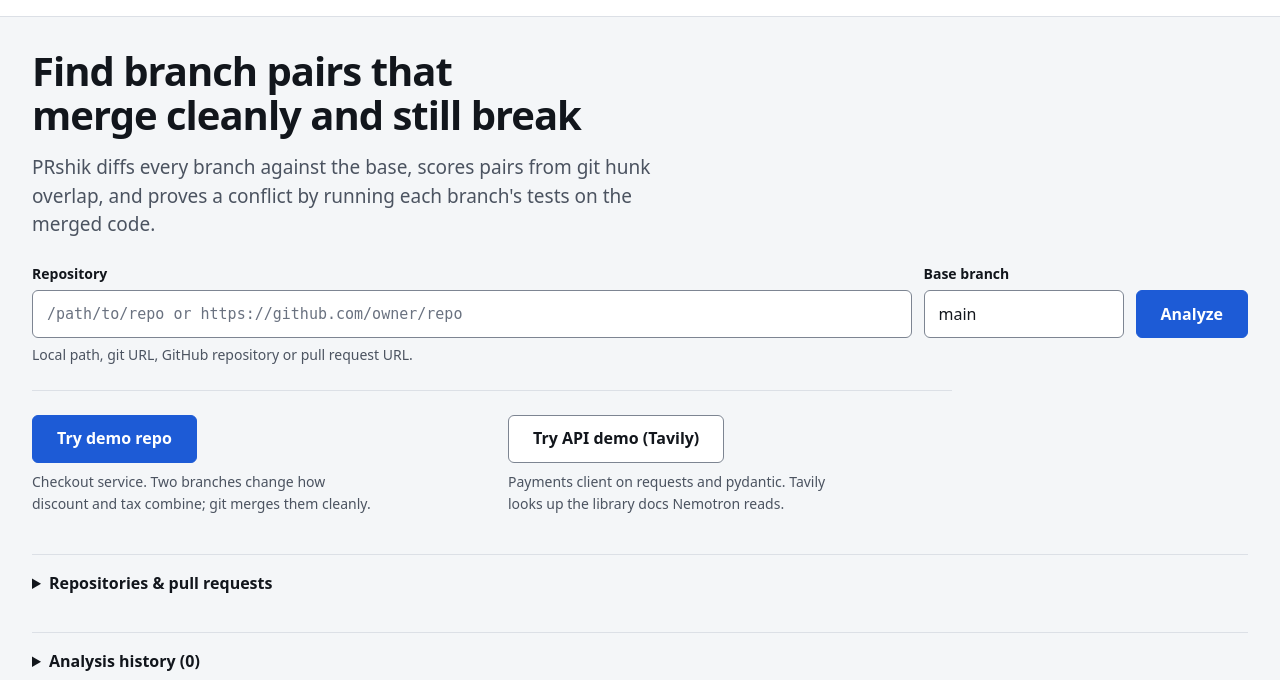
Scenario: App › explains a path that is not a git repository and how to fix it
Type "/tmp/nope" into the field labelled "Repository" at (472, 314), box [32,290,912,338]
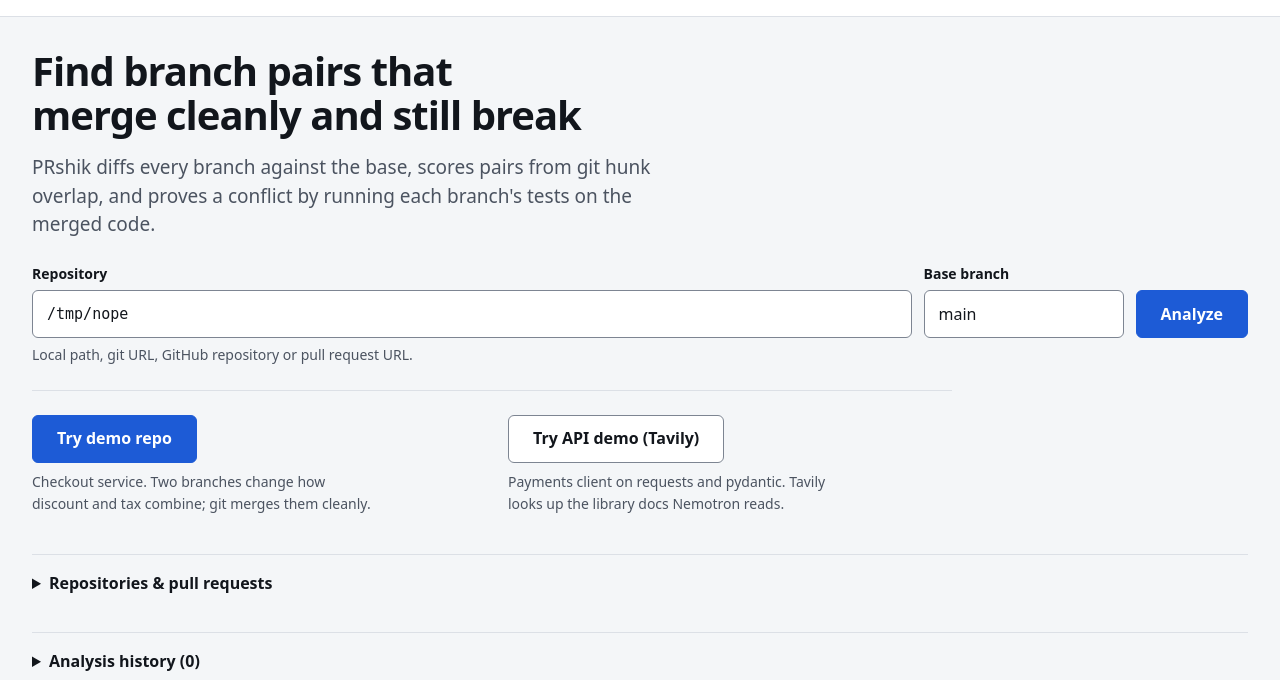
Click the button "Analyze" at (1192, 314), box [1136,290,1248,338]
(page scrolled)
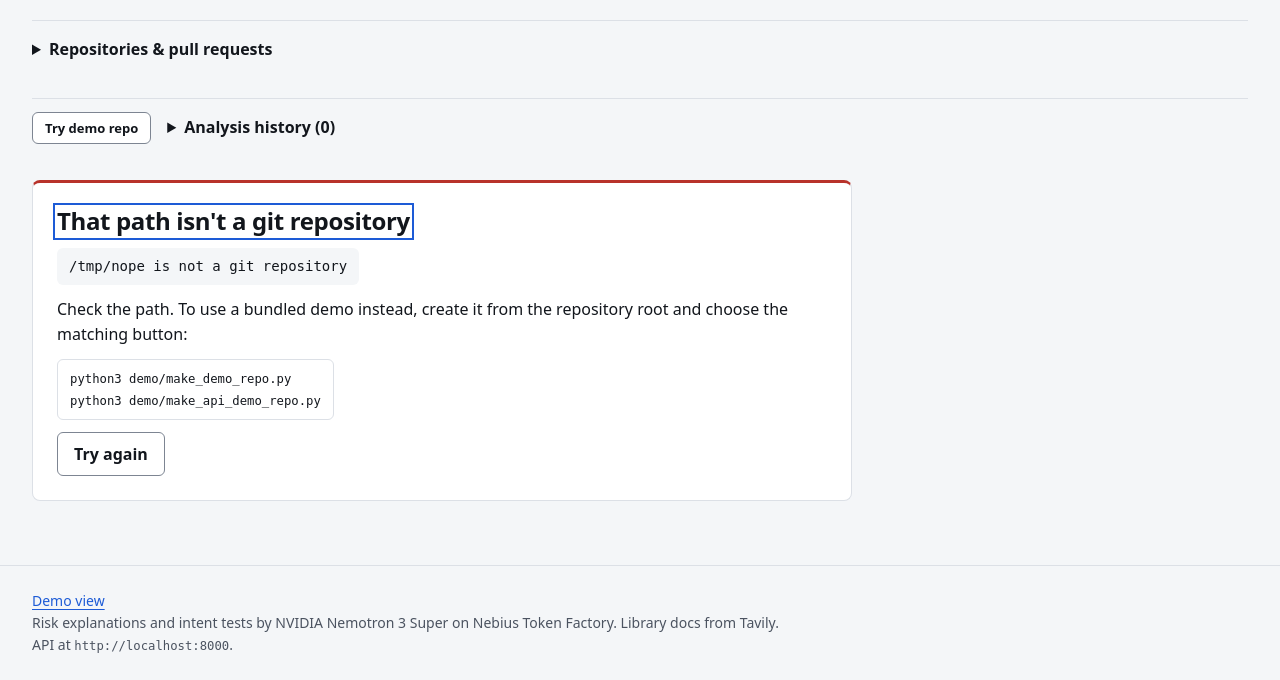
Now the text "/tmp/nope is not a git repository" is shown, box [57,248,359,285]
Now the element named "Command to run" shows "make_demo_repo.py", box [70,372,321,408]
